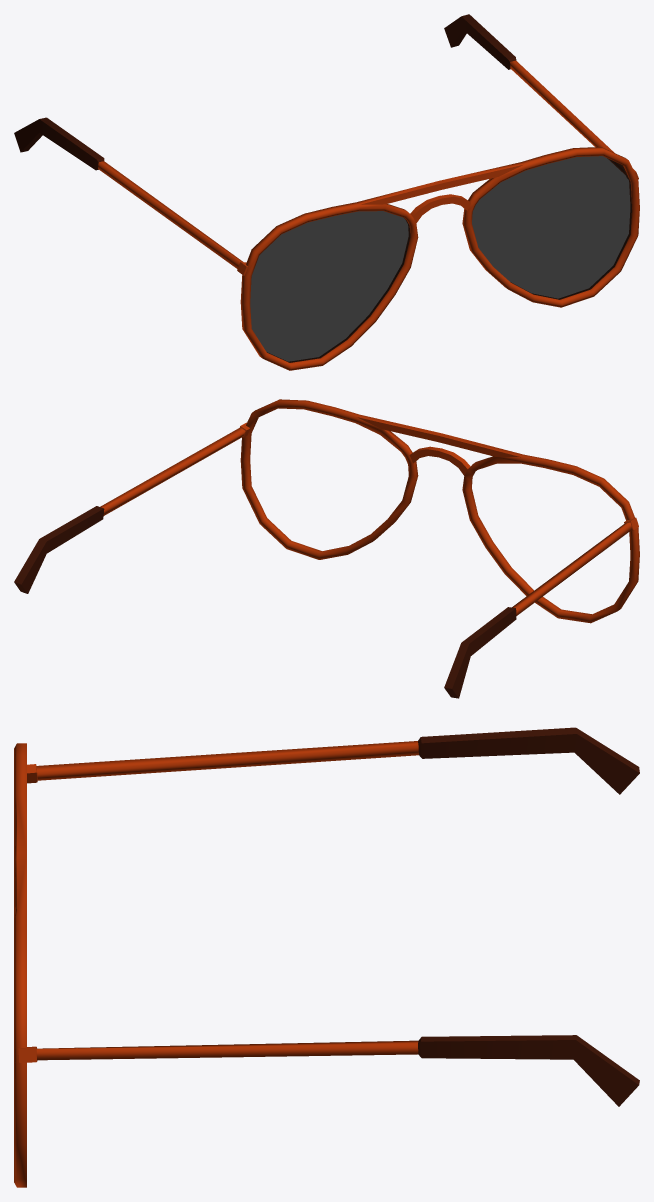
The model's file is AviatorSunglasses.fbx.
3 renders of one model, top to bottom at view 1: azimuth 30°, elevation 25°; view 2: azimuth 150°, elevation 25°; view 3: azimuth 270°, elevation 25°, orthographic. The views are drawn at different scales.
Visible parts, largest first — view 1: AviatorSunglasses; view 2: AviatorSunglasses; view 3: AviatorSunglasses.
Part boxes in pixels (box(x1,y1,x2,y2)): AviatorSunglasses: box(14, 14, 639, 370); AviatorSunglasses: box(14, 399, 639, 698); AviatorSunglasses: box(14, 727, 639, 1187).
Bounding box in the file's own units: 72.69 × 24.31 × 60.36.
